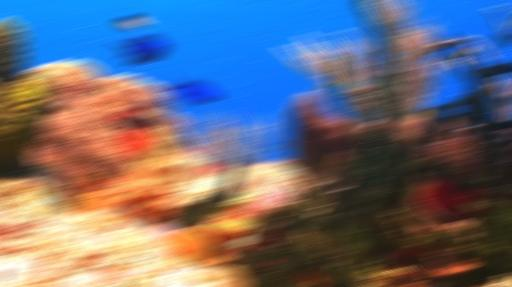Fish: (159, 73, 220, 103), (110, 34, 167, 63), (115, 15, 148, 30), (271, 142, 286, 149)
